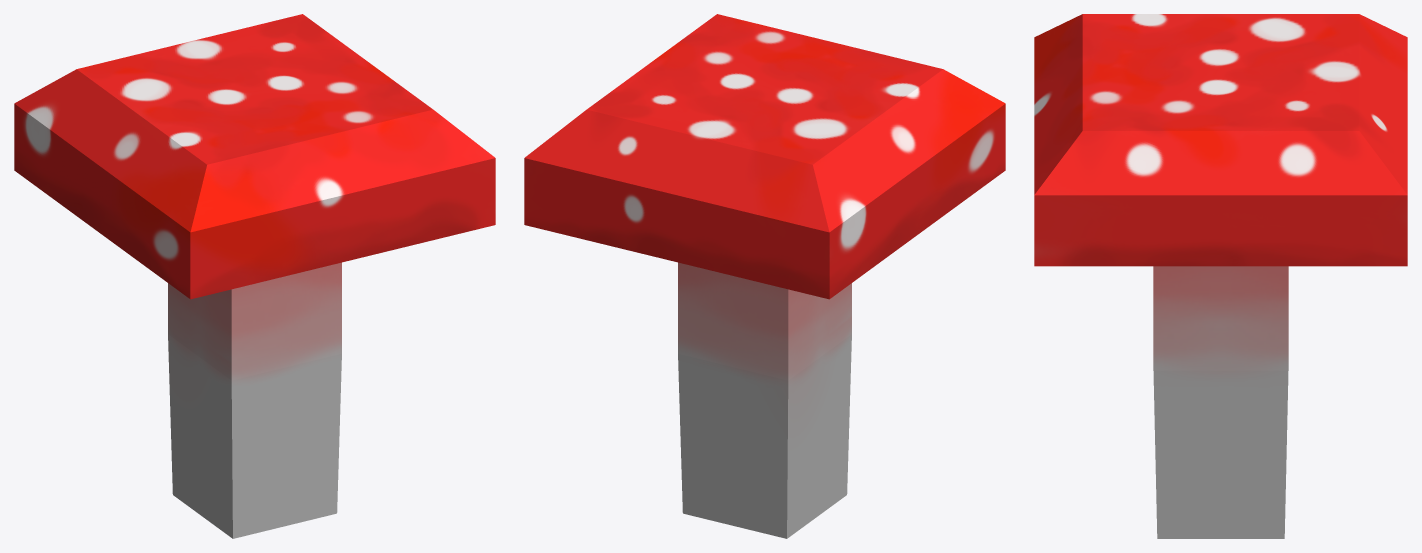
The model's file is Hongo_Prop1.fbx.
3 renders of one model, left to right at view 1: azimuth 30°, elevation 25°; view 2: azimuth 150°, elevation 25°; view 3: azimuth 270°, elevation 25°, orthographic. The views are drawn at different scales.
Visible parts, largest first — view 1: Cube; view 2: Cube; view 3: Cube.
Part boxes in pixels (box(x1,y1,x2,y2)): Cube: box(14, 14, 495, 538); Cube: box(524, 14, 1005, 538); Cube: box(1034, 14, 1407, 538).
Size of the model in its own units: 200 by 260 by 200.
1 material, 1 textured.
